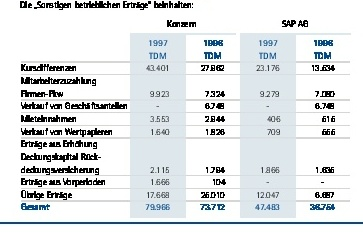table: (0, 0, 363, 234)
